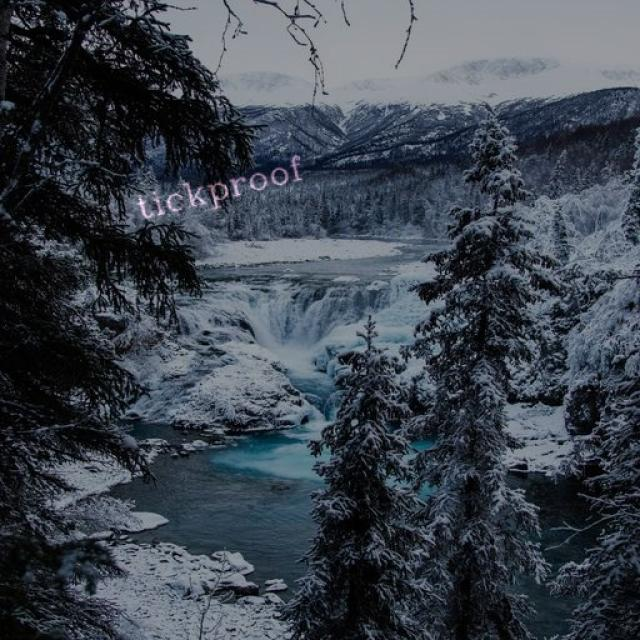watermark: (130, 152, 305, 225)
